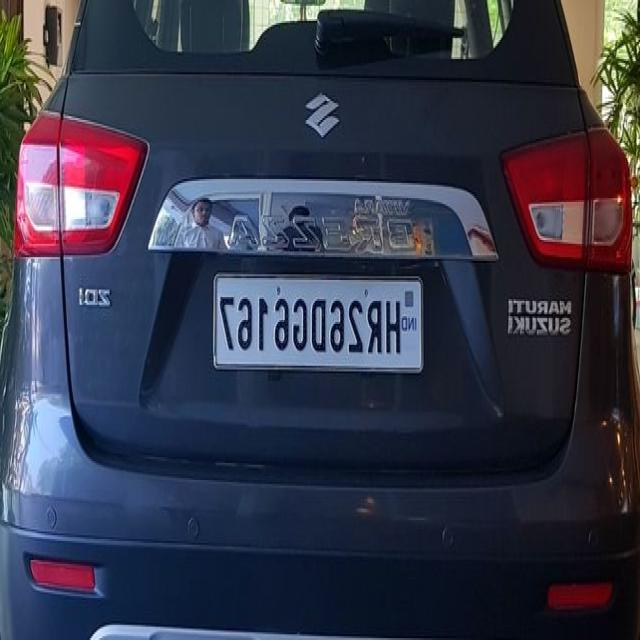number-plate: (193, 262, 429, 392)
